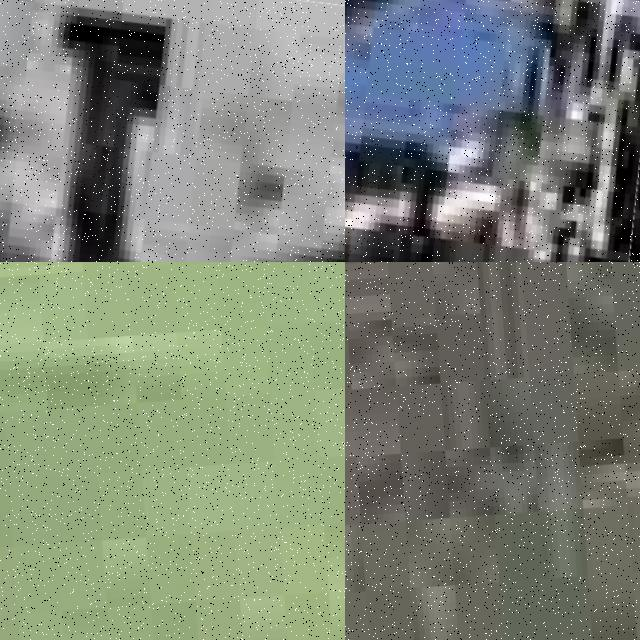drone: (0, 0, 345, 262), (345, 0, 640, 262)
